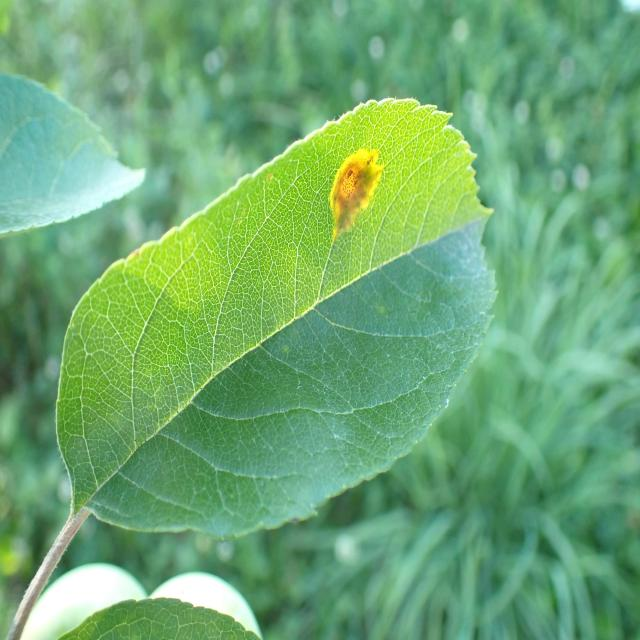rust: (56, 95, 500, 542)
